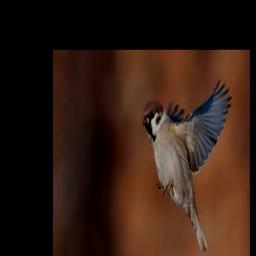Sparrow: (143, 78, 232, 250)
